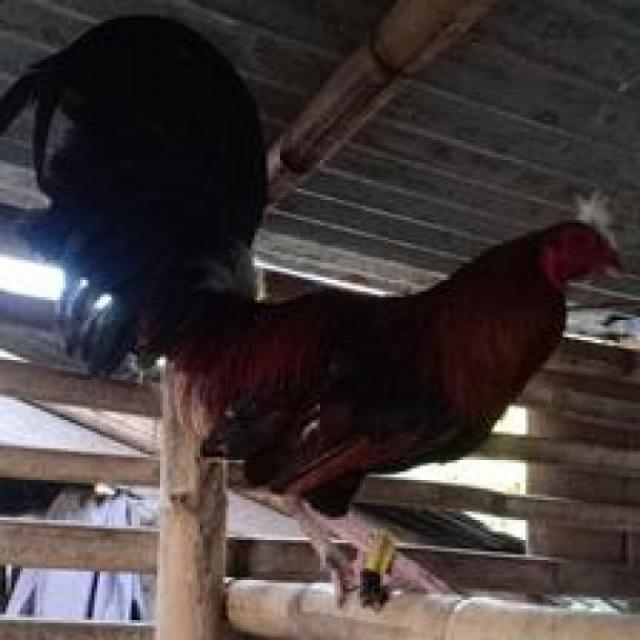Chicken: (25, 12, 626, 620)
